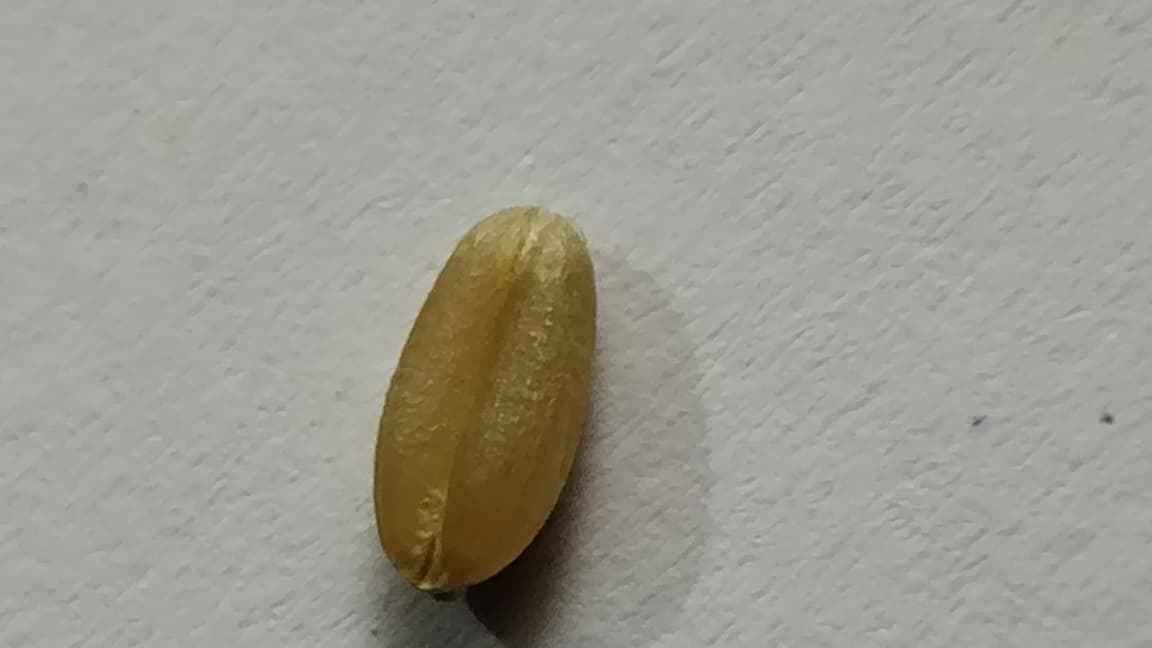healthy: (373, 205, 596, 593)
